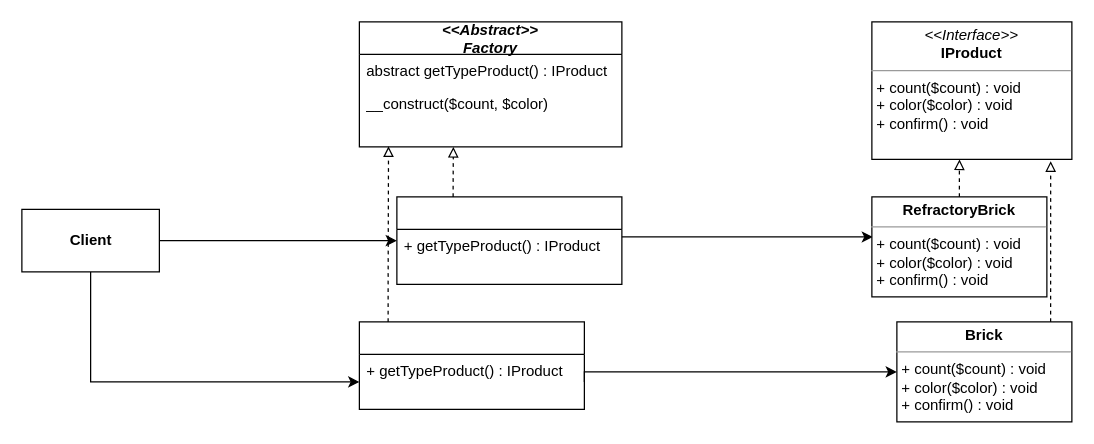
This 1094x444 diagram has some shape labels left out. The box of each missing label's shape, as (x1, y1, x2, y2) in pixels:
FactoryRefractoryBrick: (396, 196, 622, 284)
FactoryUsualBrick: (358, 321, 584, 409)
